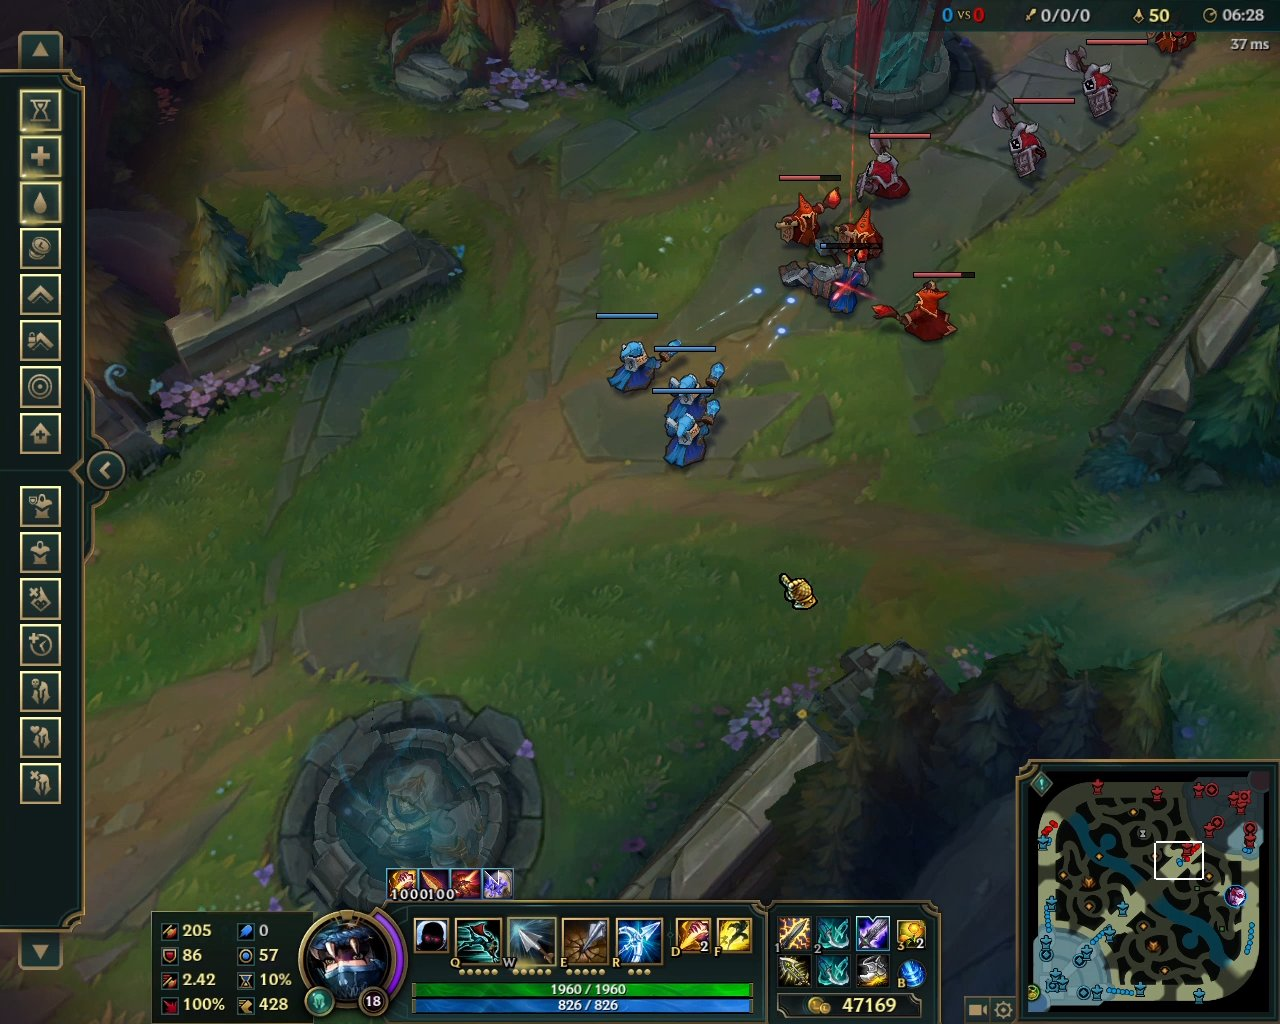EnemyMinion: (869, 272, 974, 347), (1060, 39, 1148, 125), (985, 97, 1073, 184), (850, 131, 933, 204), (776, 174, 842, 250)
